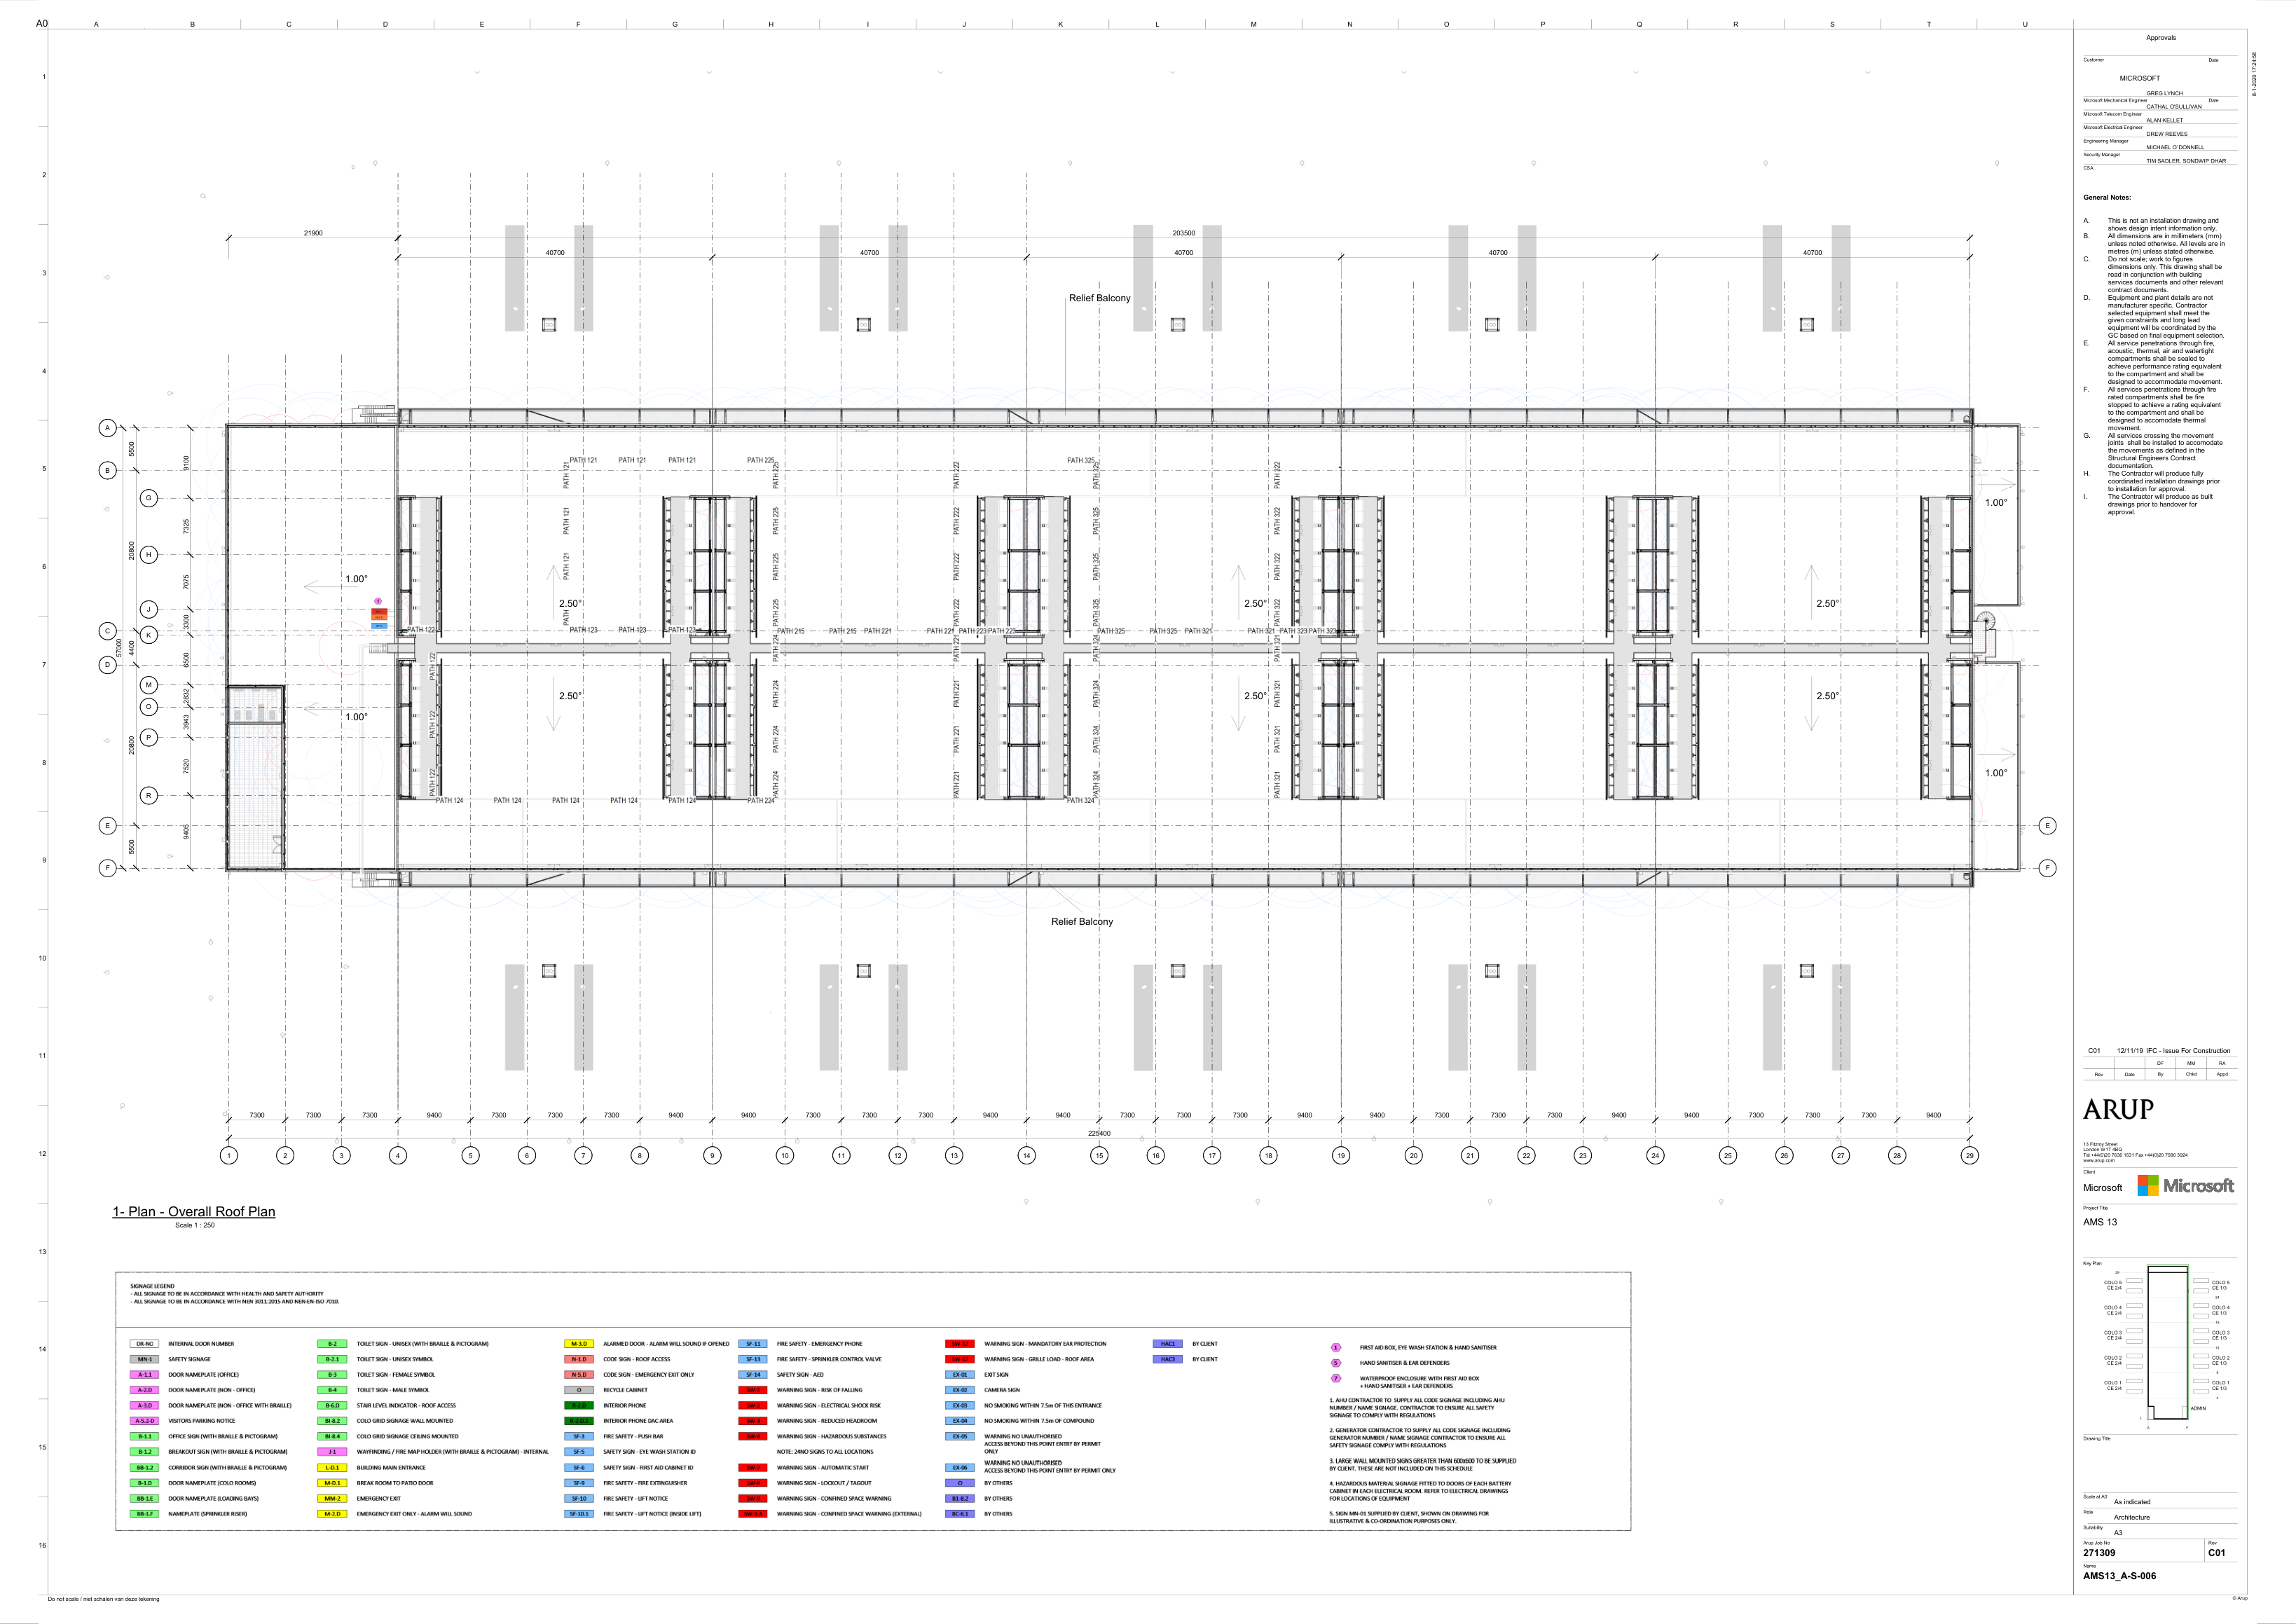Legend: (115, 1272, 1631, 1531)
